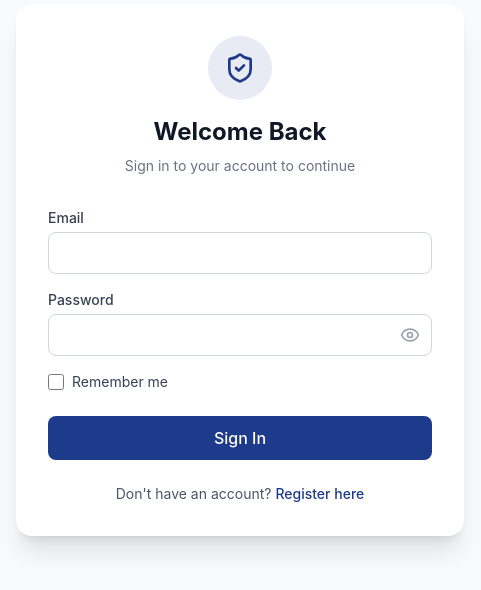
Test case: Login Component › shows validation errors when submitting empty form
Step 1. Click the button "Sign In" → (240, 438), box [48, 416, 432, 460]
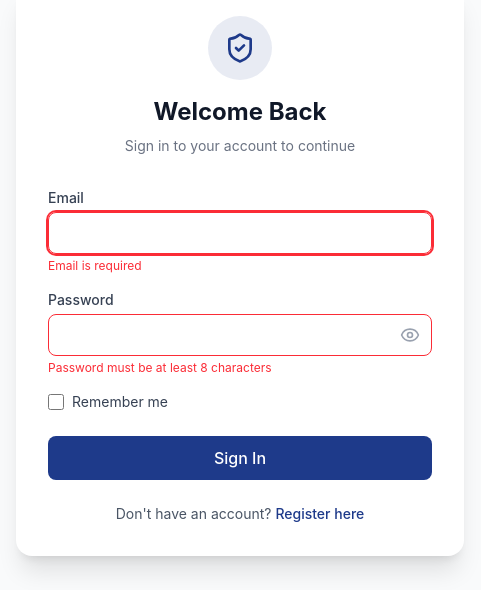
Check: the text "Email is required" is shown, box [48, 258, 142, 273]
Check: the text "Password must be at least 8 characters" is shown, box [48, 360, 272, 375]
